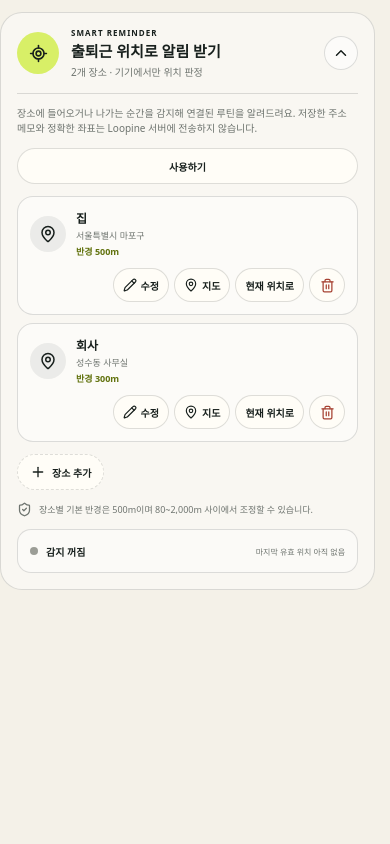
Test case: SmartLocationSettings accordion, edit popup, and delete confirmation popup › deletes place when confirmed in delete popup
The image size is (390, 844).
Click the button named "집 삭제": (327, 285) [309,268,345,302]
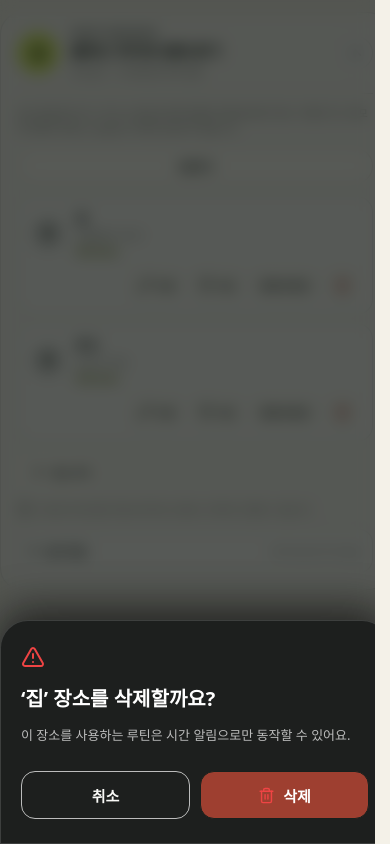
Note: Delete popup confirm button
Click the button "삭제": (284, 795) [200,771,369,819]
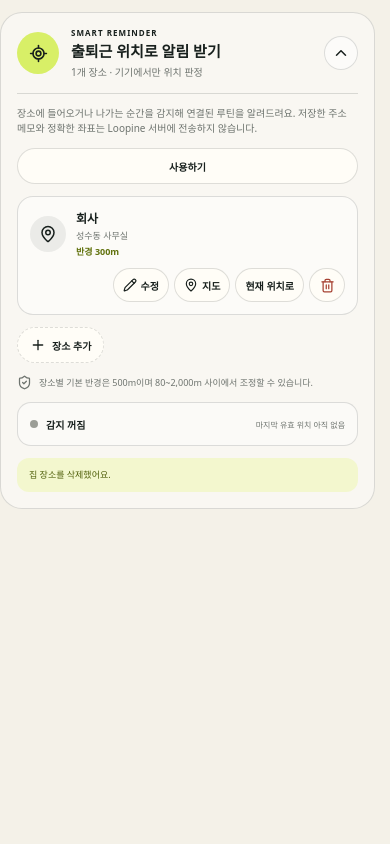
Check: the heading "‘집’ 장소를 삭제할까요?" is gone
Check: the text "서울특별시 마포구" is gone
Check: the text "집 장소를 삭제했어요." is shown, box [17,458,358,492]
